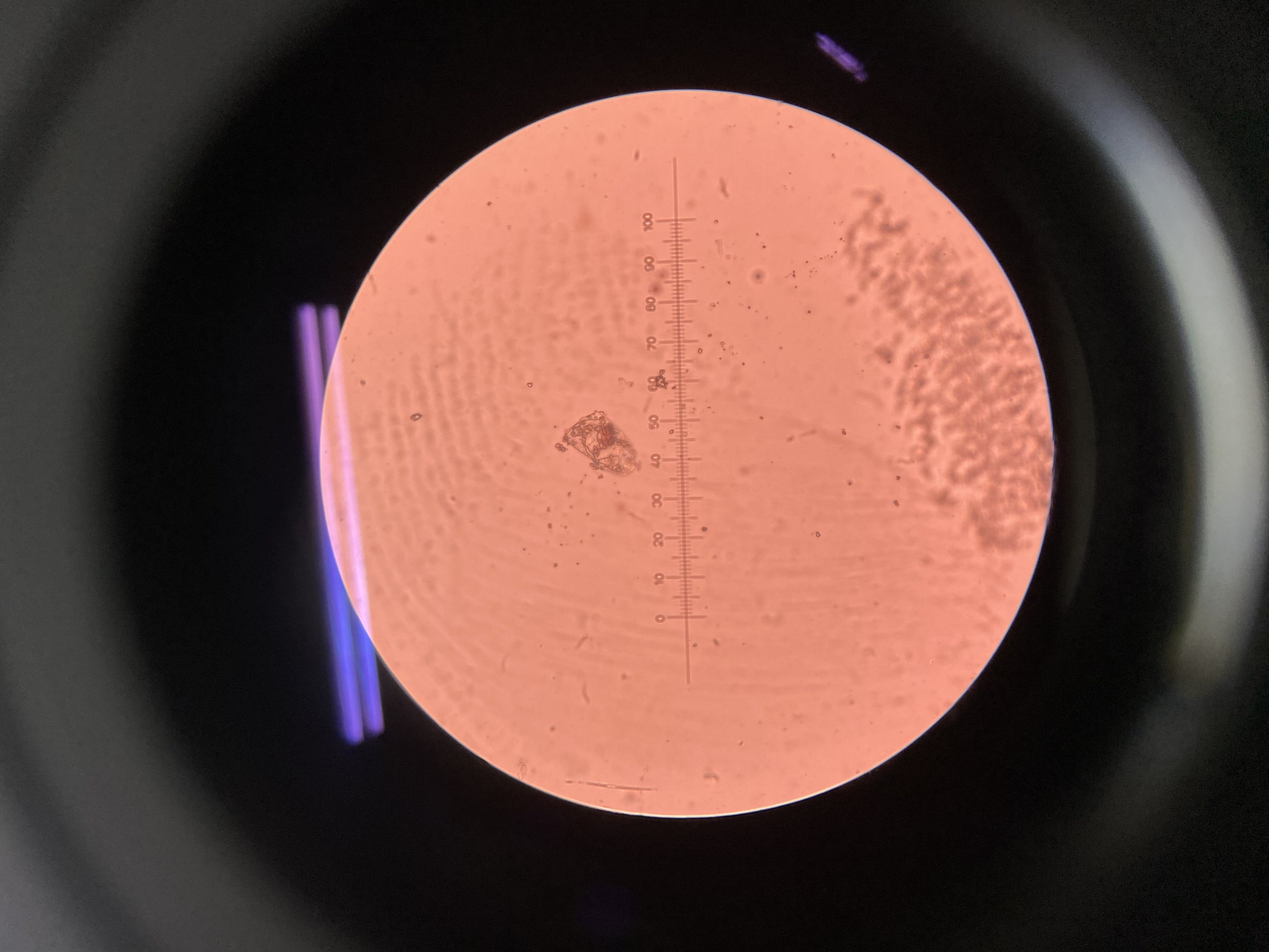microplastic: (838, 190, 1055, 543), (556, 410, 645, 477), (746, 262, 774, 282)
